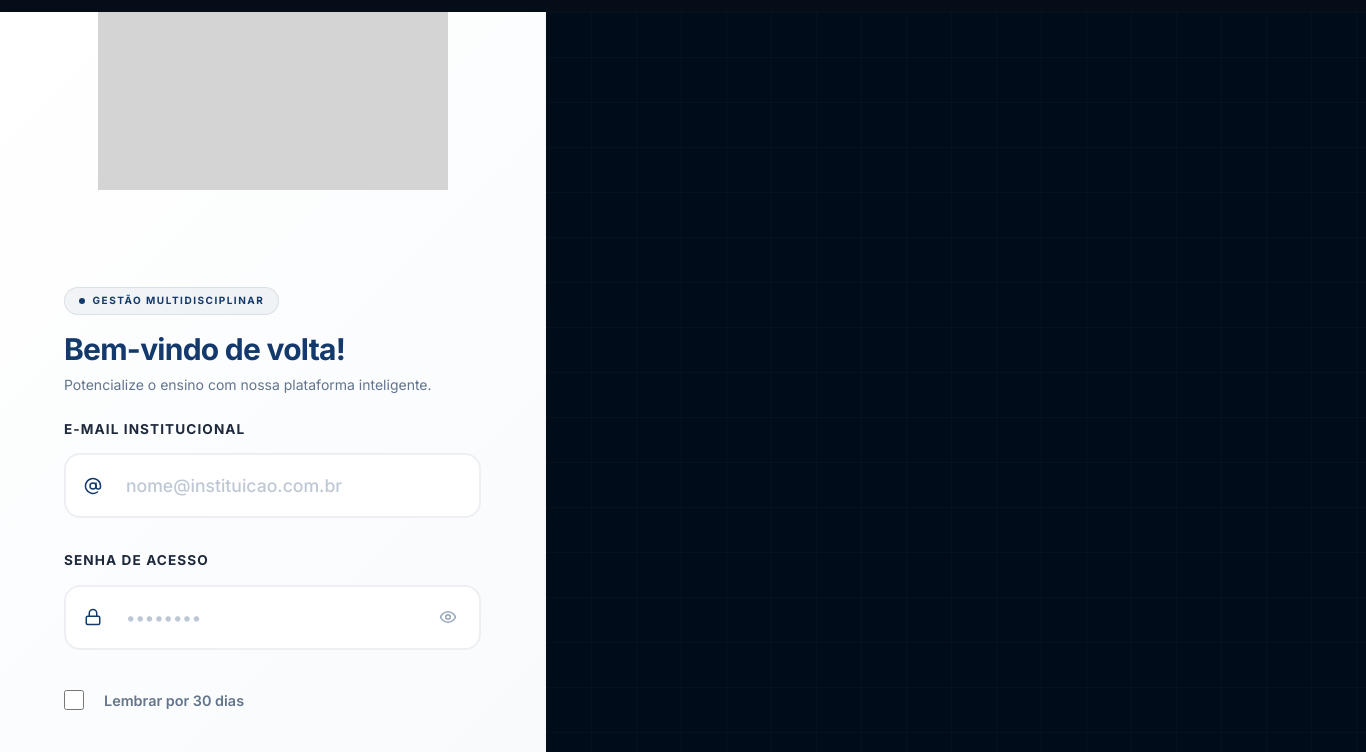
Test: VínculoTEA Integration Tests › Authentication Flow › shows error message on invalid credentials
Type "wrong@test.com" into the field with placeholder "nome@instituicao.com.br". click: coordinates (273, 486)
box: [64,453,481,518]
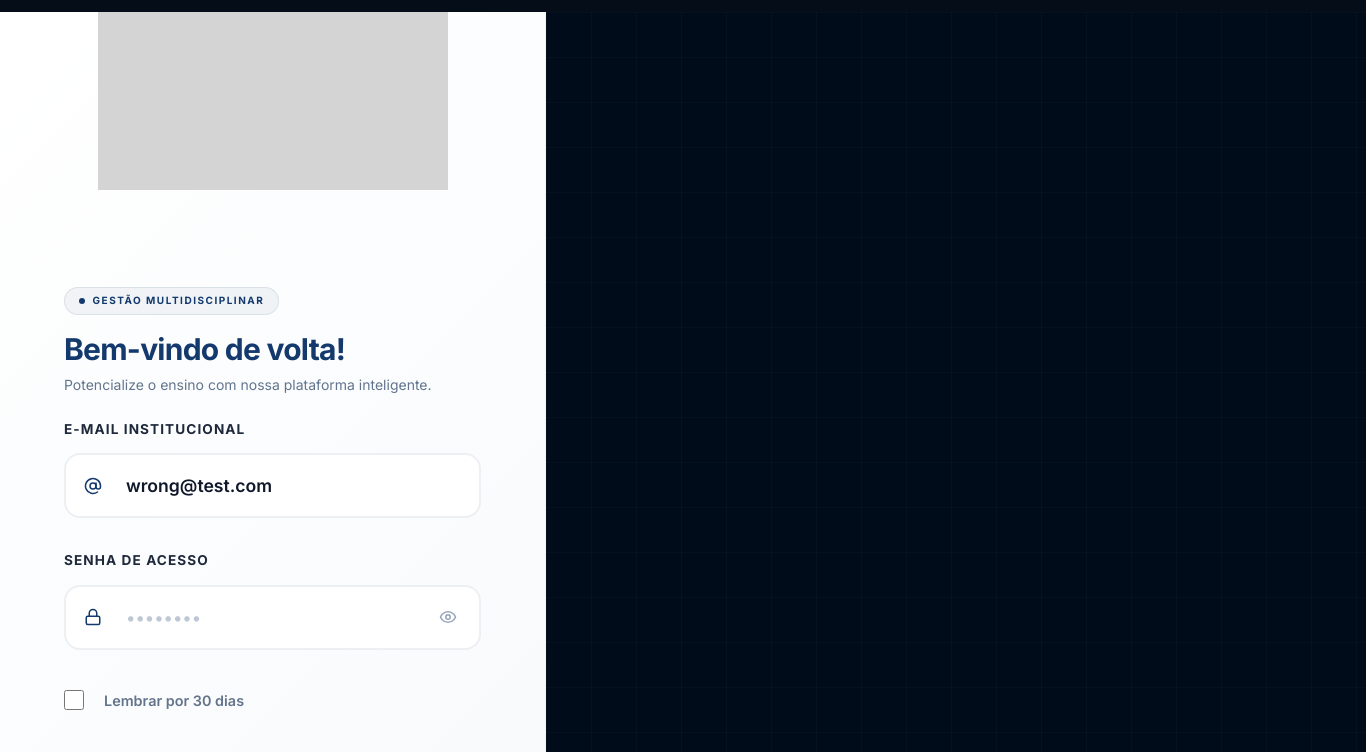
Type "password123" into the password field with placeholder "••••••••". click: coordinates (273, 617)
box: [64,585,481,650]
(page scrolled)
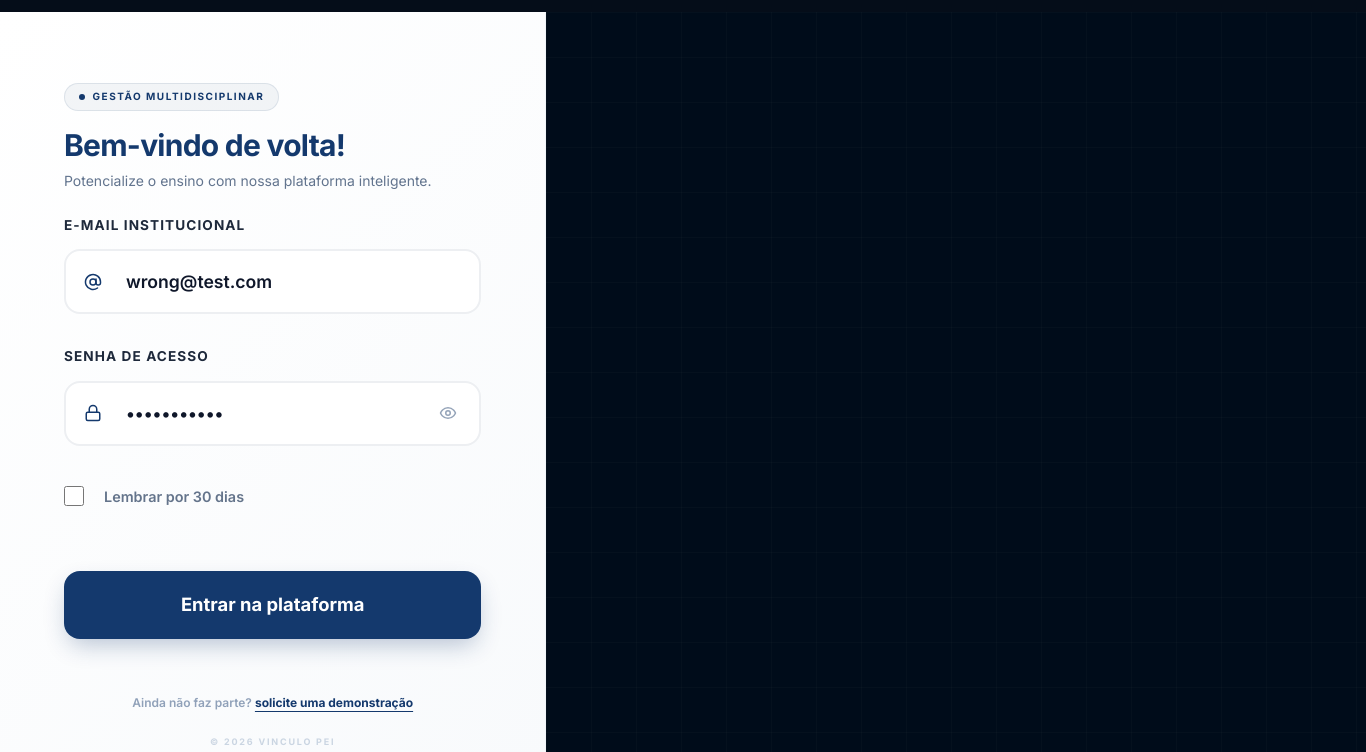
Click the button "Entrar na plataforma". click: coordinates (273, 605)
box: [64,571,481,639]
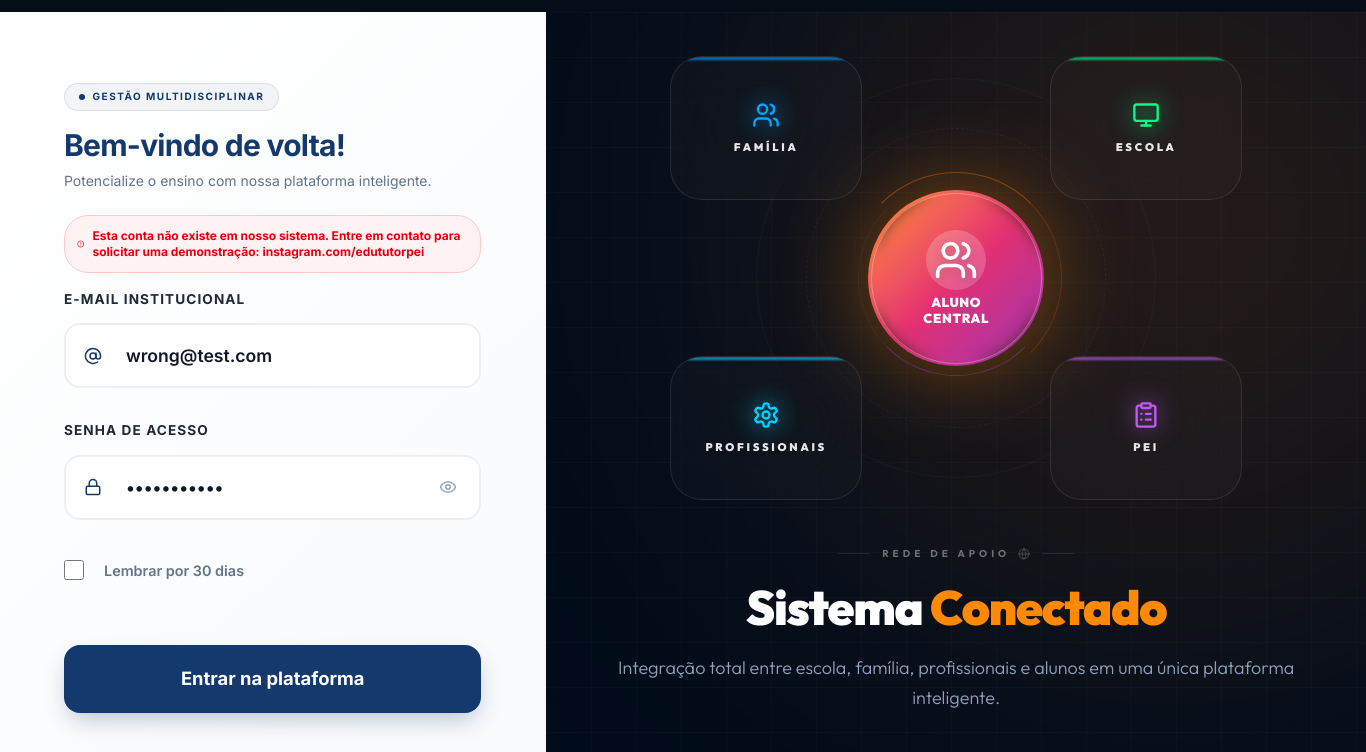
Expected: the text "Esta conta não existe em nosso sistema" is shown, [92,228,460,259]
